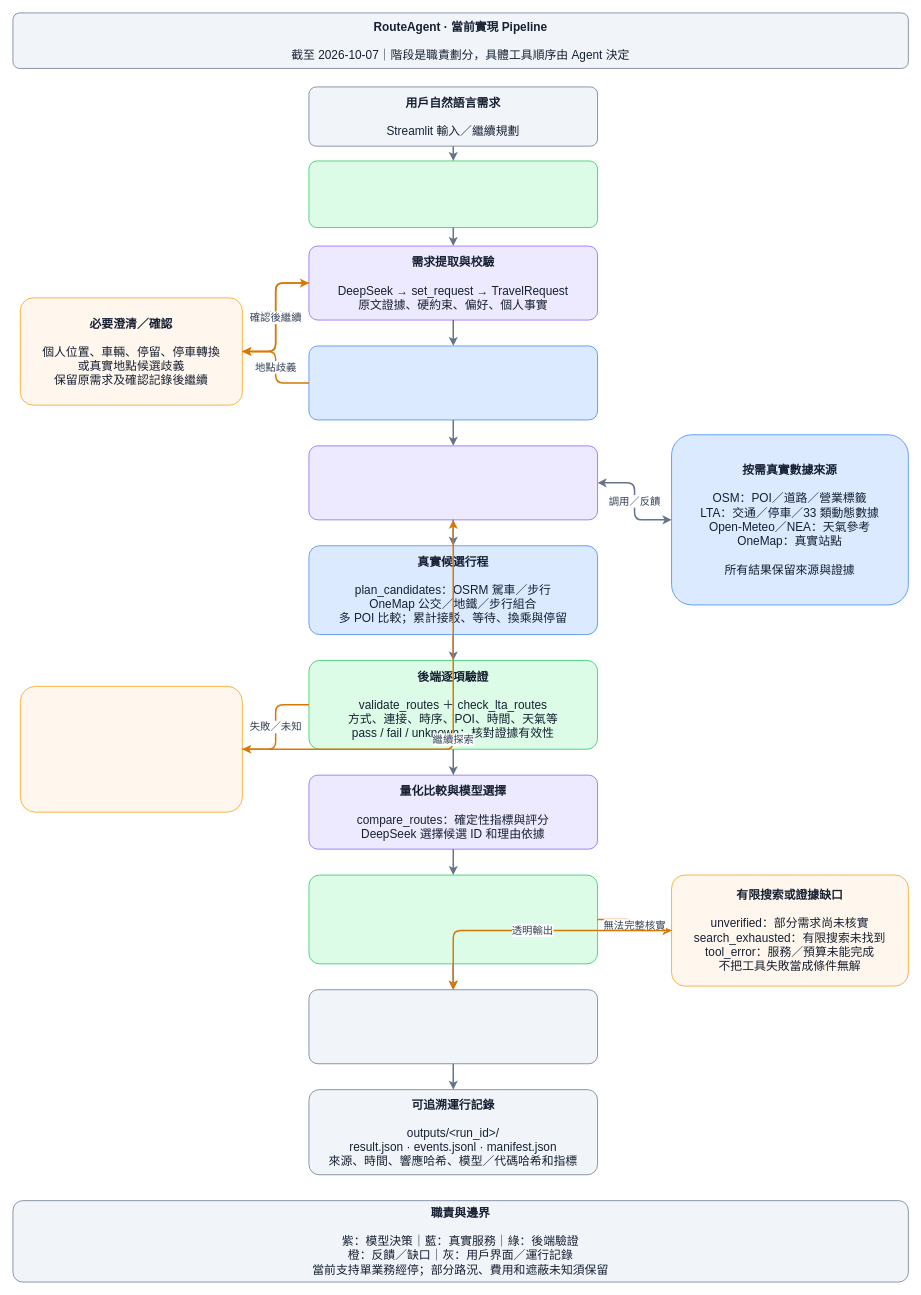
Image size: 921x1295. Some labels were removed from this diagram. Here are the shapes that lost their labels. From the top down, the centre of each, then its label:
At [453,194]: "運行初始化 plan_route：在線配置、run_id、狀態與調用預算".
At [453,382]: "通用地點解析 resolve_place：地圖／登記信息／網頁 檢索假設、來源核驗、必要地點確認".
At [453,482]: "Agent 決定下一步 讀取用戶需求、當前狀態與工具結果 按需查詢，不固定遍歷全部來源".
At [131,749]: "驗證反饋 → 重規劃 DeepSeek 決定補查、換門店／站點 比較其他方式或擴大有限搜索 約束不變；預算允許；重複組合不重查".
At [453,919]: "發佈檢查 finish_plan：推薦必須通過硬約束 每段服務證據與理由核驗 軟偏好缺證據仍可令整次結果 unverified".
At [453,1026]: "網頁結果 推薦／備選／參考、地圖、完整分段 檢查狀態、未核實項、JSON 導出".
